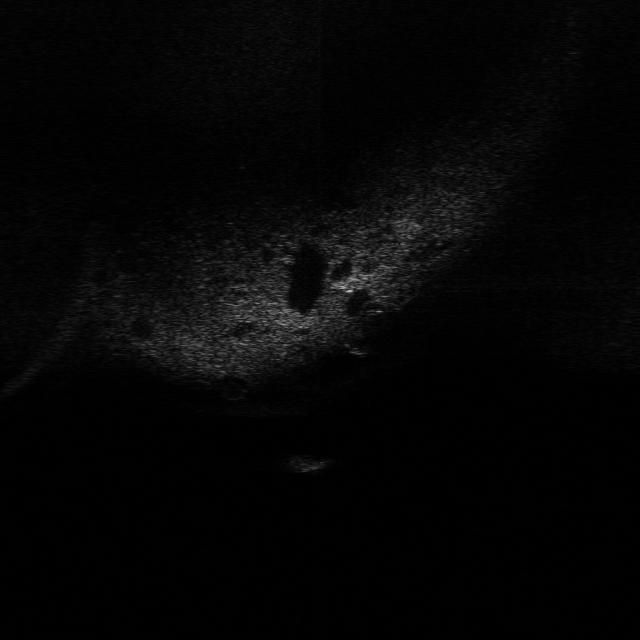ball: (338, 325, 374, 355)
cube: (283, 451, 336, 476)
